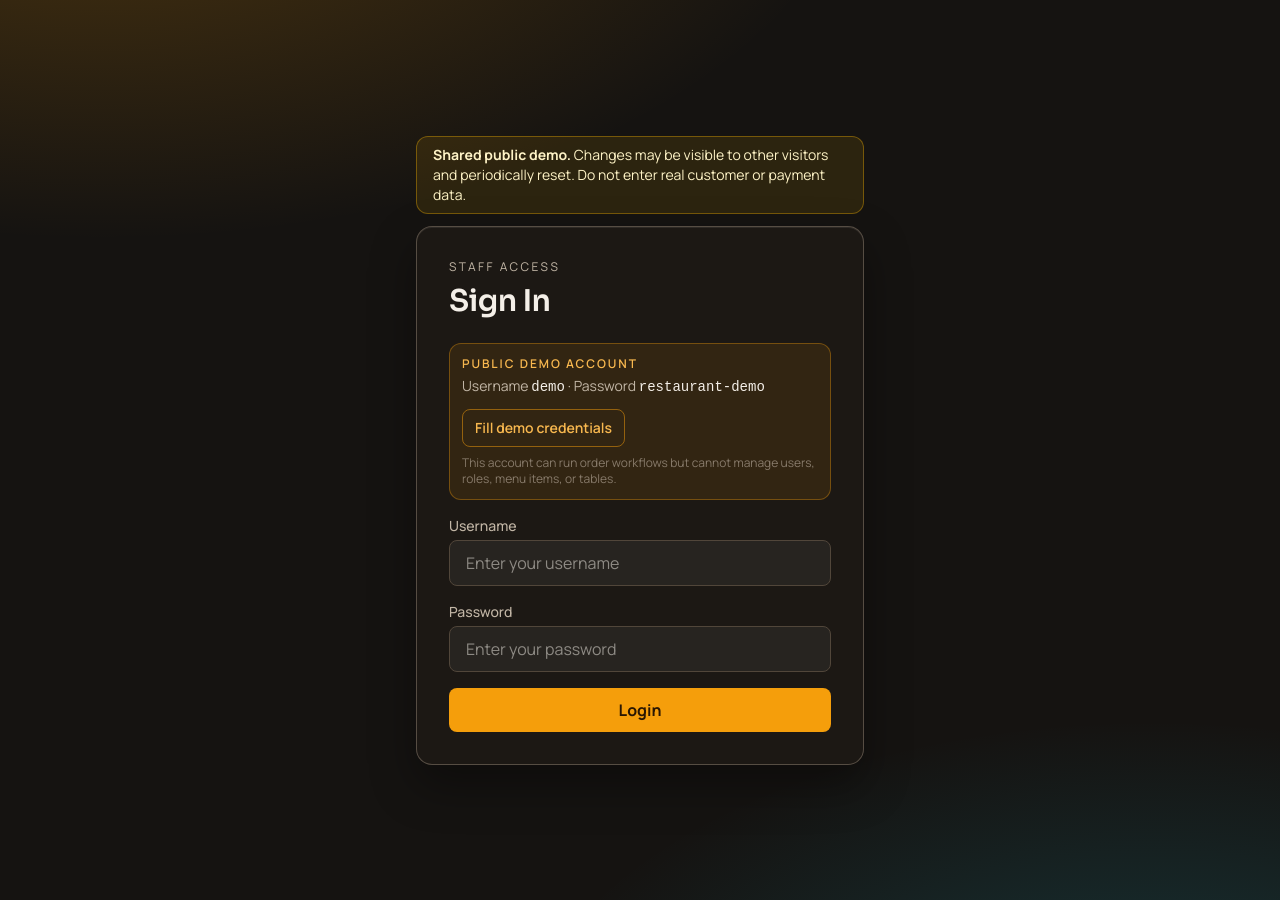
it: LoginPage › shows validation errors when fields are empty
The width and height of the screenshot is (1280, 900).
Click the button "Login" at {"x": 640, "y": 710}, box left=449, top=688, right=831, bottom=732
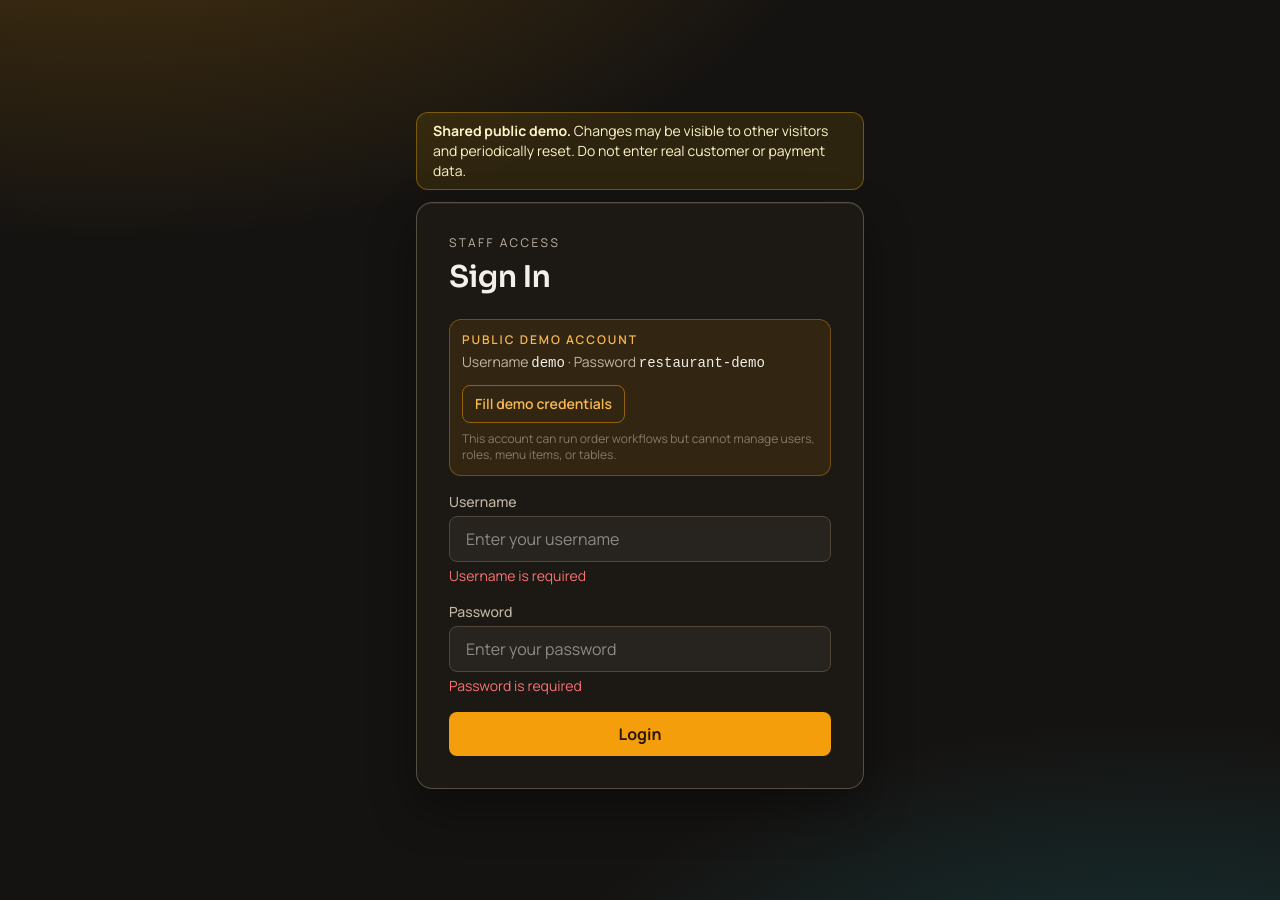
Expected: the text "Username is required" is shown, left=449, top=566, right=586, bottom=584
Expected: the text "Password is required" is shown, left=449, top=676, right=582, bottom=694
